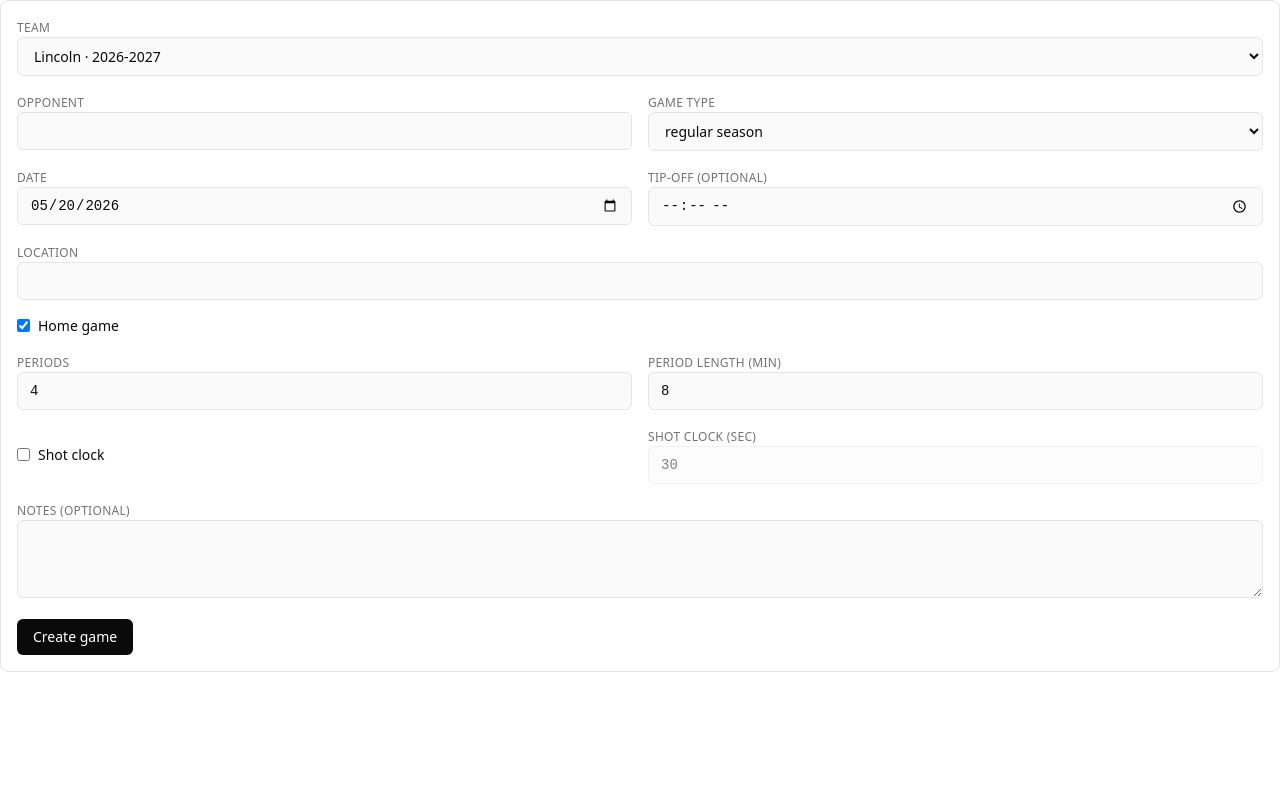
Test case: CreateGameForm › surfaces a coach-only error when the backend rejects
The width and height of the screenshot is (1280, 800).
Click the button "Create game".
click(75, 637)  # box [17,619,133,655]
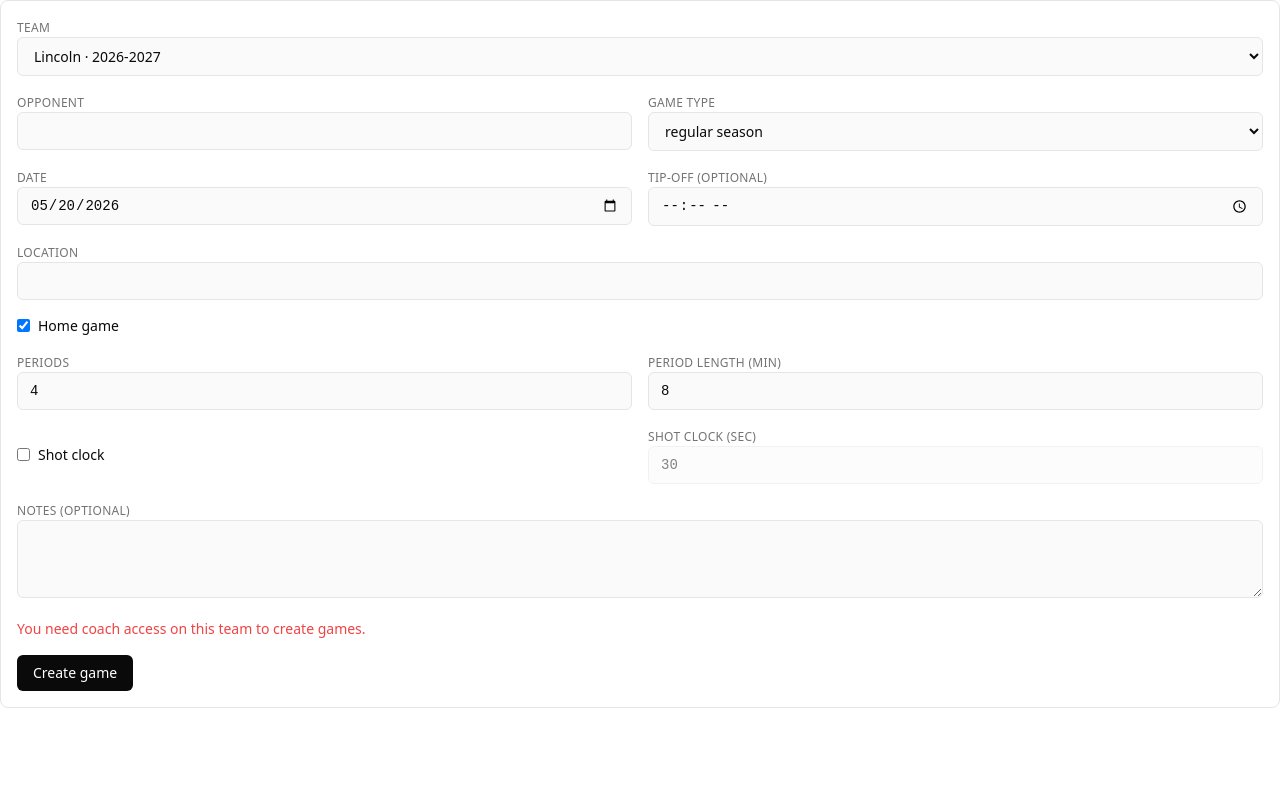
Check: the message shows "coach access", box [17,619,366,638]
